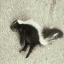skunk: (10, 19, 62, 56)
